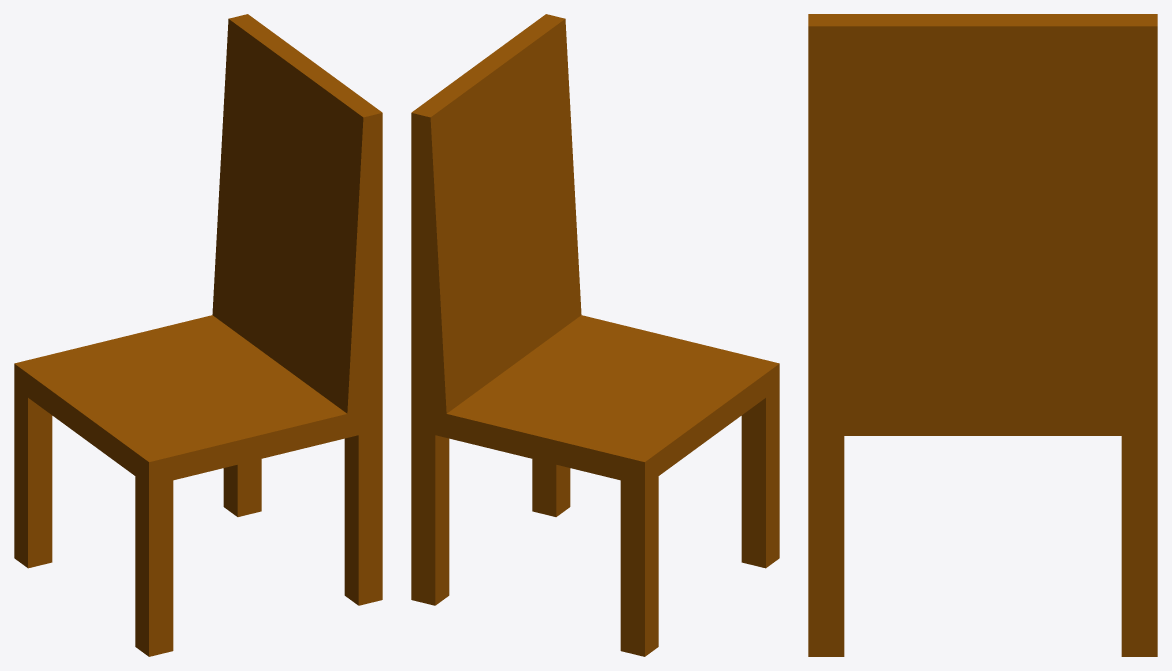
Rendered from Chair.fbx.
3 views of the same model, side by side, from view 1: azimuth 30°, elevation 25°; view 2: azimuth 150°, elevation 25°; view 3: azimuth 270°, elevation 25° (orthographic). The views are drawn at different scales.
Parts seen in each view (by area): view 1: Chair; view 2: Chair; view 3: Chair.
Boxes of the visible parts, <box> form: Chair: <box>14,14,382,656</box>; Chair: <box>411,14,779,656</box>; Chair: <box>808,14,1157,656</box>.
Bounding box in the file's own units: 1.01 × 2.01 × 1.01.
